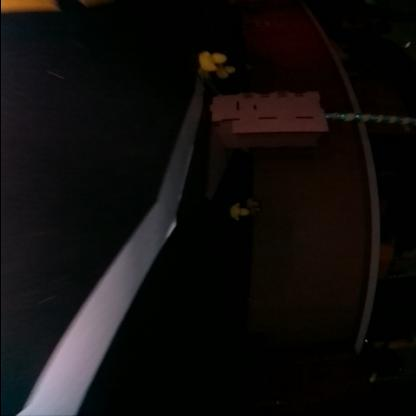Duckie: (198, 50, 224, 70), (215, 65, 234, 79), (230, 205, 247, 219), (251, 208, 259, 214), (248, 200, 258, 204)
